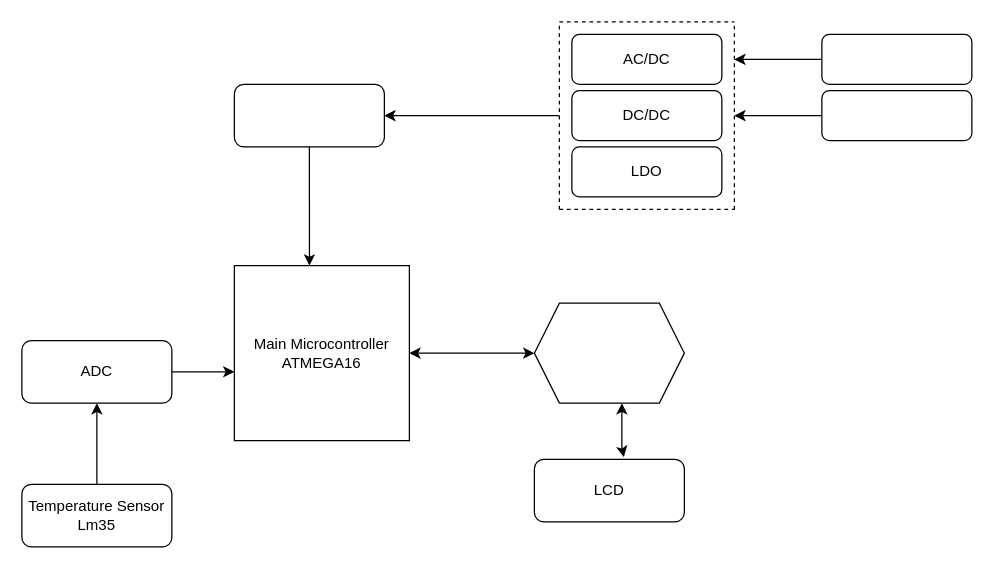
The diagram is 994 pixels wide and 569 high, and some of its shapes have lost their labels. The centre of each missing label's shape, as x and y in pixels:
"AC100~240V" belongs at (x=896, y=58).
"DC24V" belongs at (x=896, y=115).
"LDO (low Dropout)" belongs at (x=308, y=115).
"Sub MCU for display" belongs at (x=608, y=352).
